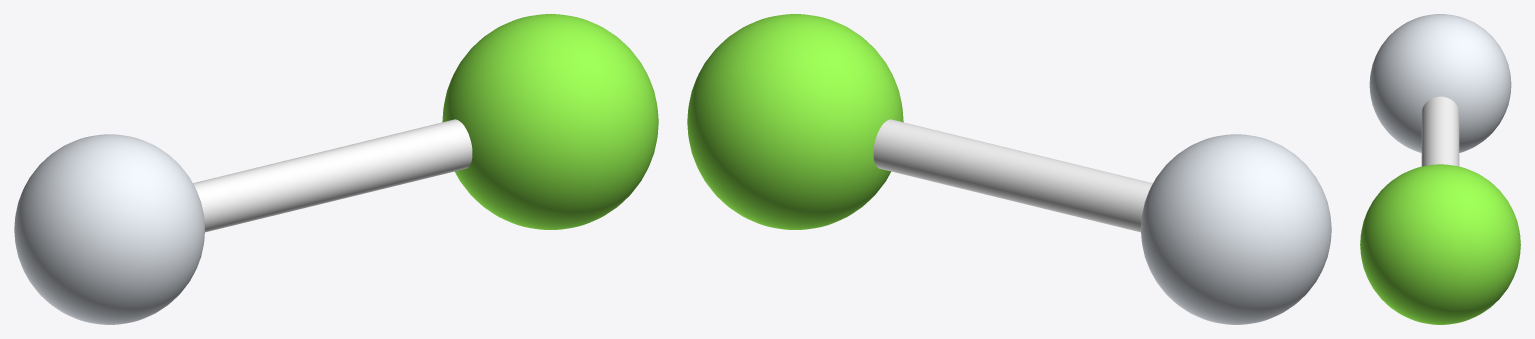
Rendered from hydrogen_fluoride.fbx.
3 renders of one model, left to right at view 1: azimuth 30°, elevation 25°; view 2: azimuth 150°, elevation 25°; view 3: azimuth 270°, elevation 25°, orthographic. The views are drawn at different scales.
Visible parts, largest first — view 1: hydrogen_fluoride; view 2: hydrogen_fluoride; view 3: hydrogen_fluoride.
Boxes of the visible parts, x1,y1,x2,y2 form: hydrogen_fluoride: [14, 14, 658, 324]; hydrogen_fluoride: [687, 14, 1331, 324]; hydrogen_fluoride: [1360, 14, 1520, 324].
Size of the model in its own units: 112 by 34 by 34.
